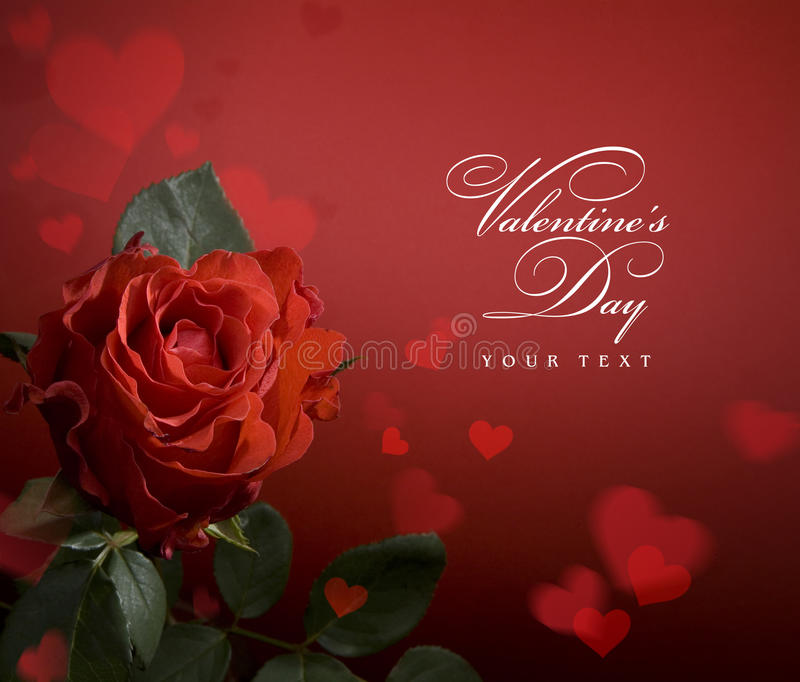RedRose: (34, 228, 349, 552)
